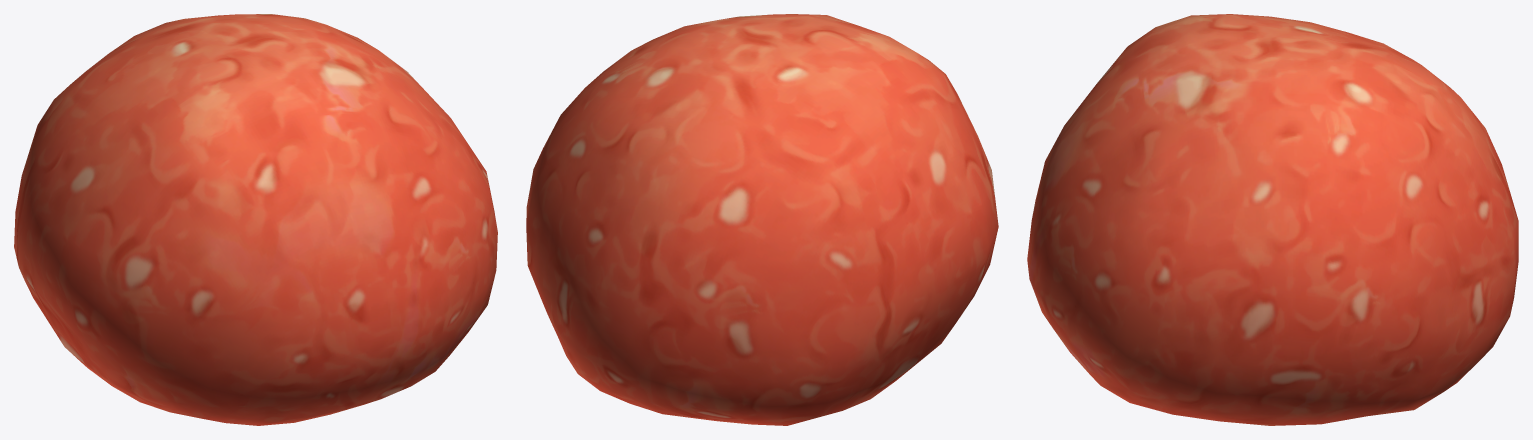
The model's file is SM_BurgerPattyRawBall.glb.
The picture shows the model from 3 angles, left to right: view 1: azimuth 30°, elevation 25°; view 2: azimuth 150°, elevation 25°; view 3: azimuth 270°, elevation 25°; orthographic projection.
Visible parts, largest first — view 1: SM_BurgerPattyRawBall; view 2: SM_BurgerPattyRawBall; view 3: SM_BurgerPattyRawBall.
Part boxes in pixels (left/top/right/bottom): SM_BurgerPattyRawBall: left=14, top=14, right=497, bottom=425; SM_BurgerPattyRawBall: left=526, top=14, right=998, bottom=425; SM_BurgerPattyRawBall: left=1027, top=14, right=1518, bottom=425.
Size of the model in its own units: 0.1008 by 0.0771 by 0.1052.
1 material, 1 textured.
